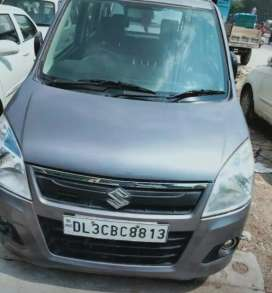license_plate: (63, 216, 174, 244)
